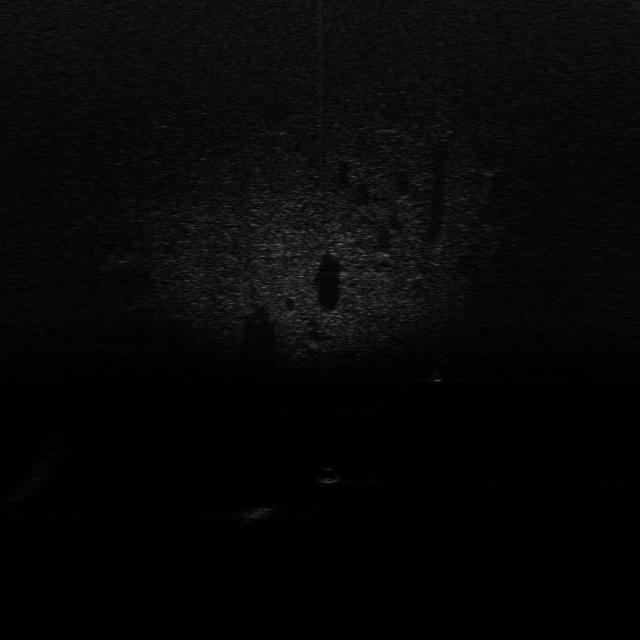ball: (312, 466, 344, 486)
square cage: (236, 500, 280, 522)
tyre: (422, 354, 452, 386)
